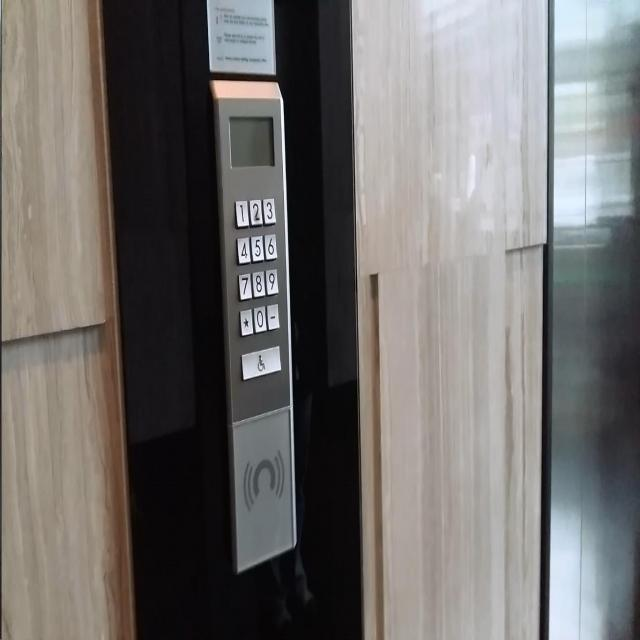-: (266, 302, 280, 331)
0: (253, 304, 267, 334)
1: (233, 198, 249, 228)
2: (249, 198, 262, 226)
3: (262, 197, 276, 226)
4: (236, 233, 250, 264)
5: (250, 234, 263, 264)
6: (263, 232, 277, 262)
7: (237, 270, 253, 301)
8: (250, 268, 265, 298)
9: (264, 267, 278, 295)
CH: (240, 344, 281, 381)
led: (227, 114, 275, 168)
s: (238, 308, 254, 337)
